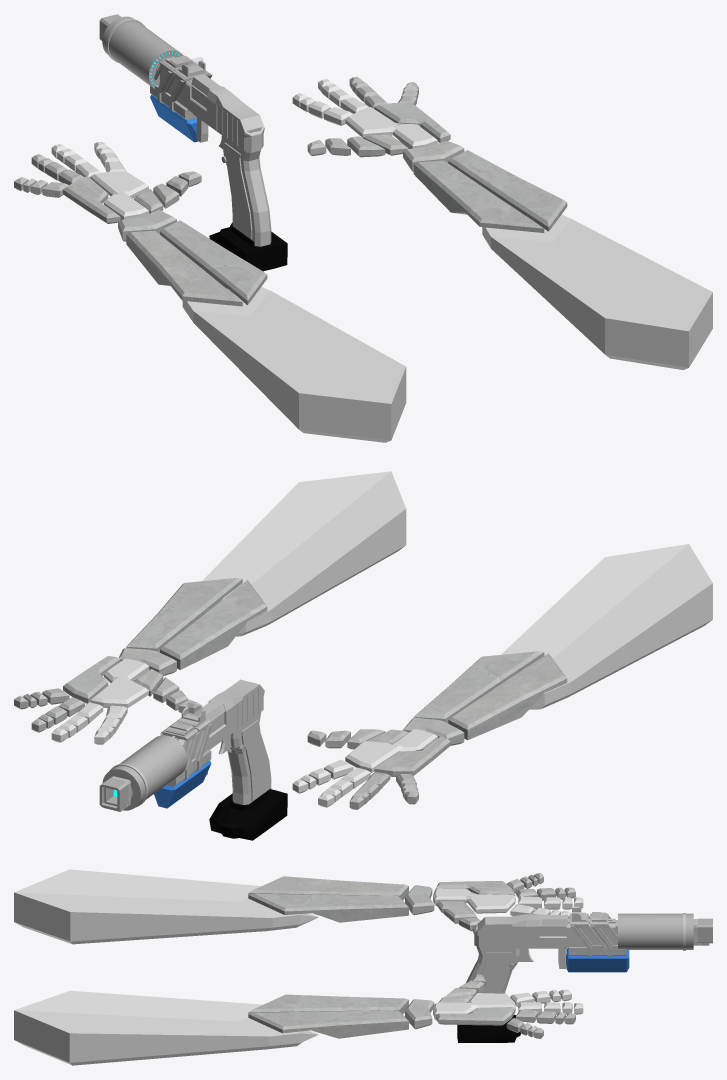
The model's file is FuturePistolTest.fbx.
3 renders of one model, top to bottom at view 1: azimuth 30°, elevation 25°; view 2: azimuth 150°, elevation 25°; view 3: azimuth 270°, elevation 25°, orthographic. The views are drawn at different scales.
Visible parts, largest first — view 1: ProtoHandsModel, Glass, Slide, OilCan, ExtendedMagazine, Battery; view 2: ProtoHandsModel, Glass, OilCan, ExtendedMagazine, Slide, Battery, ExtendedBarrel; view 3: ProtoHandsModel, Glass, Slide, OilCan, Battery, ExtendedMagazine, ExtendedBarrel.
Part boxes in pixels (<box>): ProtoHandsModel: <box>14,76,712,442</box>; Glass: <box>150,55,271,246</box>; Slide: <box>160,57,264,151</box>; OilCan: <box>102,16,183,88</box>; ExtendedMagazine: <box>209,222,287,271</box>; Battery: <box>150,94,198,142</box>; ProtoHandsModel: <box>14,471,712,809</box>; Glass: <box>160,706,271,804</box>; OilCan: <box>102,735,187,810</box>; ExtendedMagazine: <box>209,749,287,840</box>; Slide: <box>171,679,264,759</box>; Battery: <box>154,760,211,808</box>; ExtendedBarrel: <box>99,776,131,810</box>; ProtoHandsModel: <box>14,869,583,1065</box>; Glass: <box>466,906,626,993</box>; Slide: <box>474,914,615,947</box>; OilCan: <box>618,913,693,950</box>; Battery: <box>566,947,629,972</box>; ExtendedMagazine: <box>457,1014,520,1042</box>; ExtendedBarrel: <box>693,918,712,943</box>.
Bounding box in the file's own units: 369 × 136 × 665.
